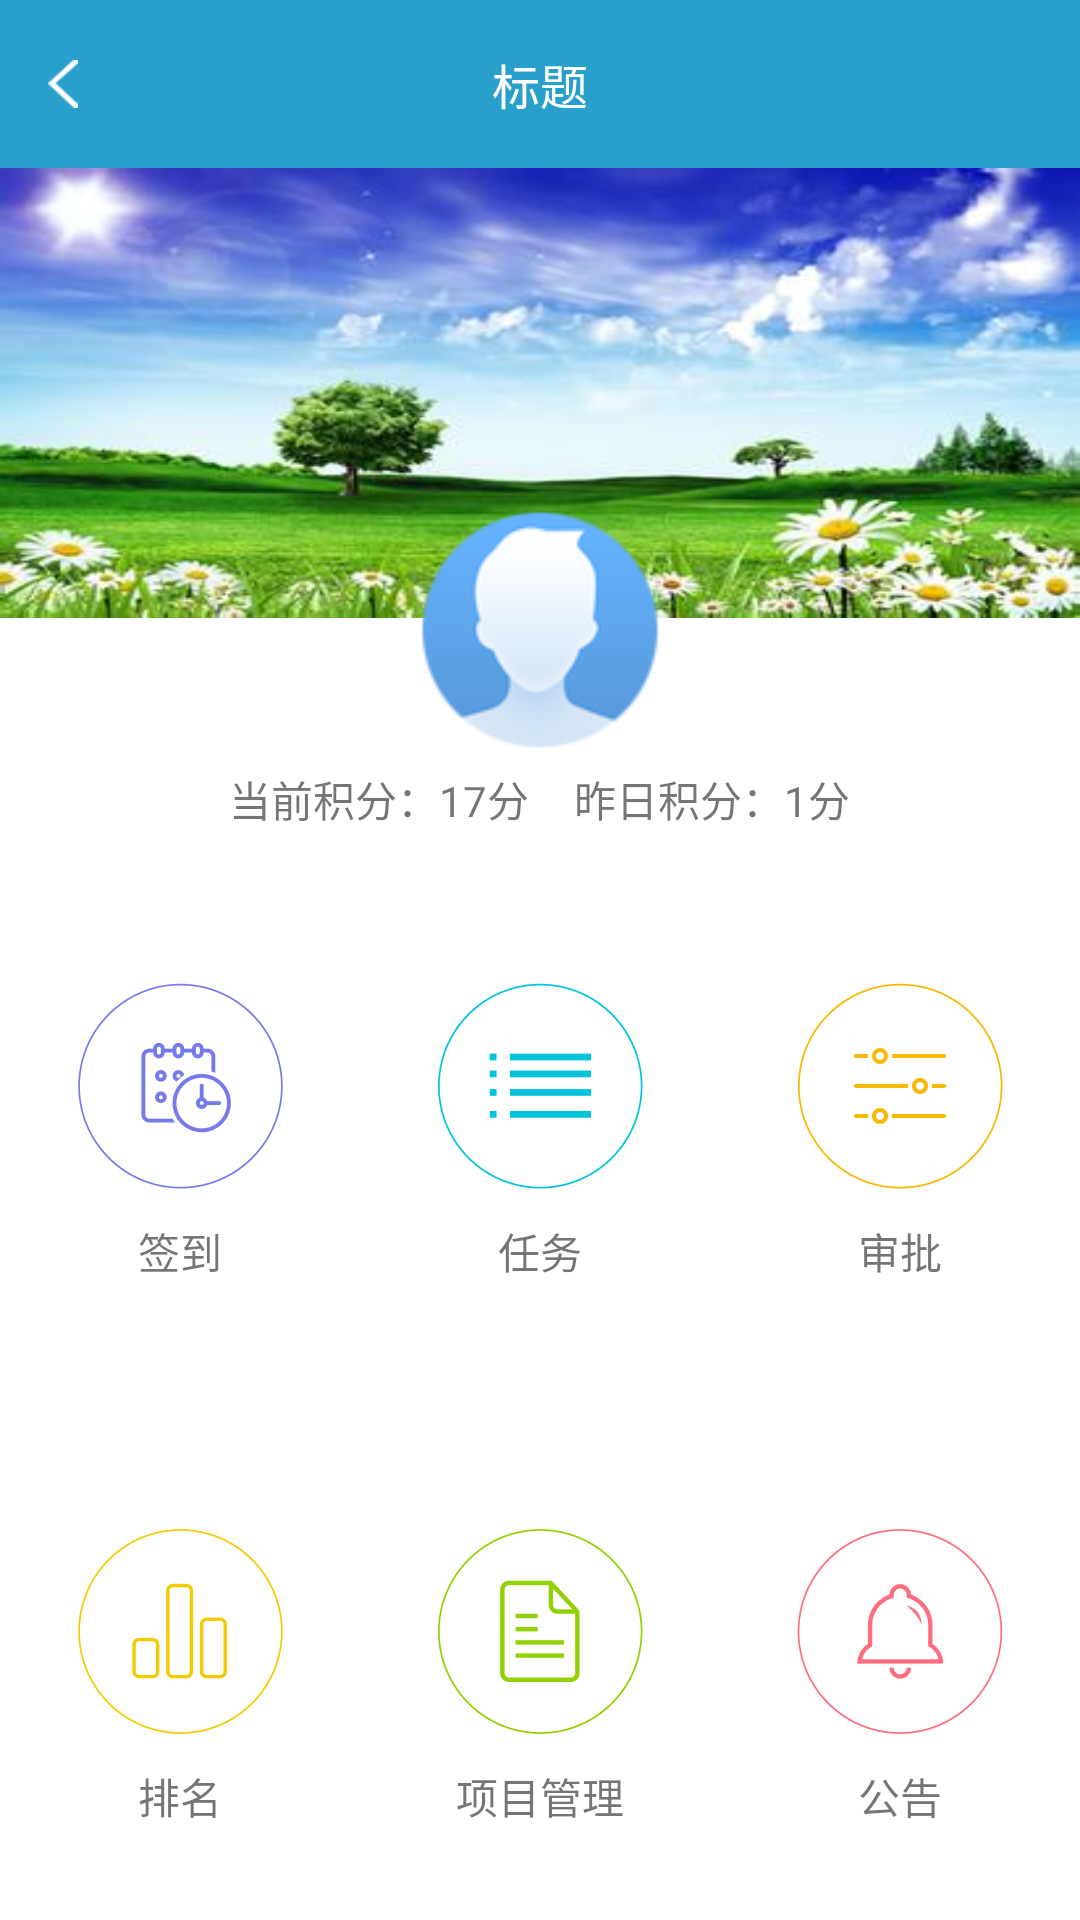

Icon bounding boxes for this 1080px×1920px phone screenshot, format (x1, y1, x2, y2):
arrow: (48, 60, 78, 108)
